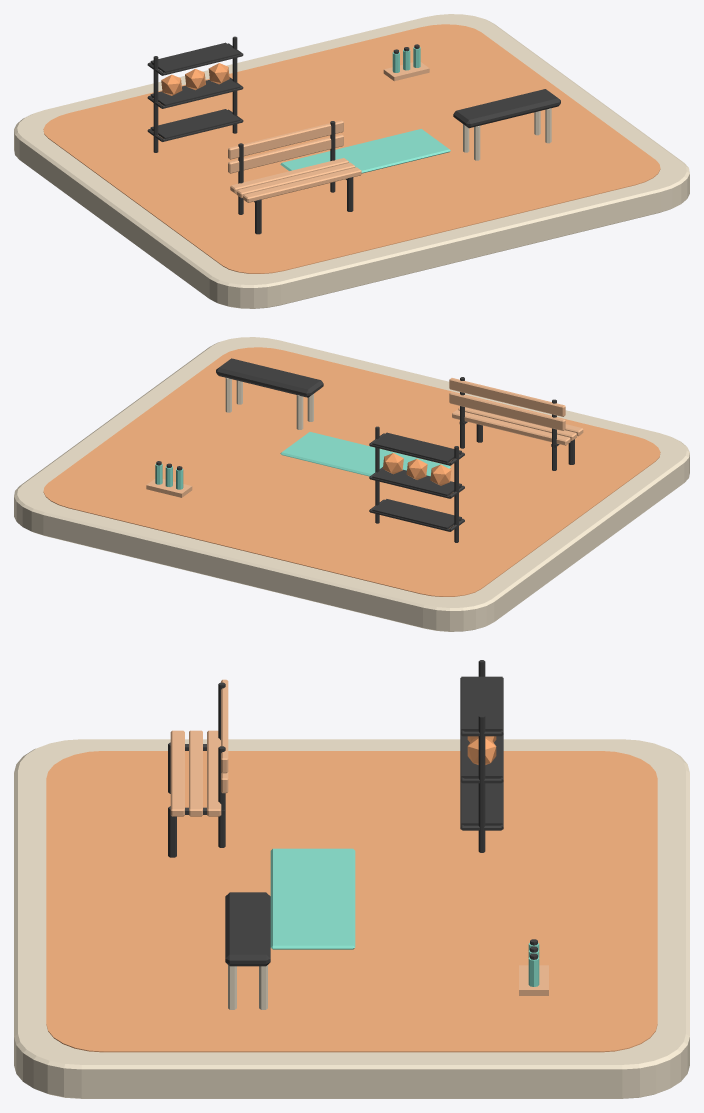
3 renders of one model, top to bottom at view 1: azimuth 30°, elevation 25°; view 2: azimuth 150°, elevation 25°; view 3: azimuth 270°, elevation 25°, orthographic. The views are drawn at different scales.
Parts seen in each view (by area): view 1: COM-02 Floor Surface, COM-01 Rounded Base Direct, Exercise mat, Cushion, Back slat, Back slat.001, Ball shelf, Ball shelf.002, Seat slat, Ball shelf.001, Seat slat.001, Seat slat.002 (+2 smaller); view 2: COM-02 Floor Surface, COM-01 Rounded Base Direct, Exercise mat, Cushion, Back slat, Back slat.001, Ball shelf.002, Ball shelf, Seat slat.002, Ball shelf.001, Seat slat.001, Tray (+1 smaller); view 3: COM-02 Floor Surface, COM-01 Rounded Base Direct, Exercise mat, Cushion, Ball shelf.002, Ball shelf, Seat slat, Seat slat.001, Seat slat.002, Frame.001, Ball shelf.001, Tray (+1 smaller).
Boxes of the visible parts, x1,y1,x2,y2 form: COM-02 Floor Surface: (43, 24, 660, 273); COM-01 Rounded Base Direct: (14, 14, 689, 308); Exercise mat: (280, 129, 450, 173); Cushion: (453, 89, 560, 128); Back slat: (228, 134, 343, 173); Back slat.001: (228, 120, 343, 159); Ball shelf: (150, 109, 240, 139); Ball shelf.002: (150, 42, 240, 72); Seat slat: (243, 167, 361, 202); Ball shelf.001: (150, 79, 240, 106); Seat slat.001: (236, 162, 355, 198); Seat slat.002: (230, 158, 348, 193); COM-02 Floor Surface: (43, 347, 660, 596); COM-01 Rounded Base Direct: (14, 337, 689, 631); Exercise mat: (280, 432, 450, 476); Cushion: (216, 358, 323, 397); Back slat: (449, 392, 565, 430); Back slat.001: (449, 378, 565, 416); Ball shelf.002: (372, 432, 461, 462); Ball shelf: (372, 499, 461, 528); Seat slat.002: (452, 410, 570, 445); Ball shelf.001: (372, 469, 461, 495); Seat slat.001: (458, 407, 576, 440); Tray: (146, 479, 192, 497); COM-02 Floor Surface: (46, 751, 657, 1052); COM-01 Rounded Base Direct: (14, 739, 689, 1098); Exercise mat: (270, 848, 355, 949); Cushion: (225, 892, 270, 966); Ball shelf.002: (461, 676, 502, 731); Ball shelf: (461, 782, 502, 825); Seat slat: (170, 730, 184, 816); Seat slat.001: (189, 730, 202, 816); Seat slat.002: (207, 730, 221, 816); Frame.001: (478, 715, 485, 852); Ball shelf.001: (461, 735, 502, 778); Tray: (519, 965, 548, 995).
Size of the model in its own units: 6 by 1.45 by 5.2.
Materials: 1 (1 with a texture image).
